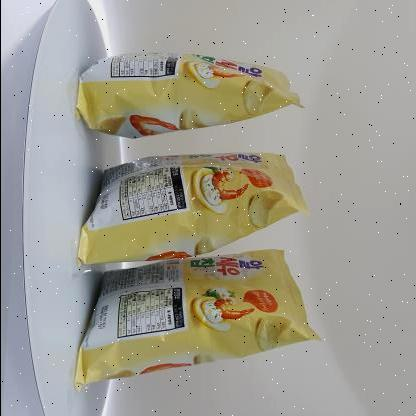Others: (69, 39, 316, 399)
